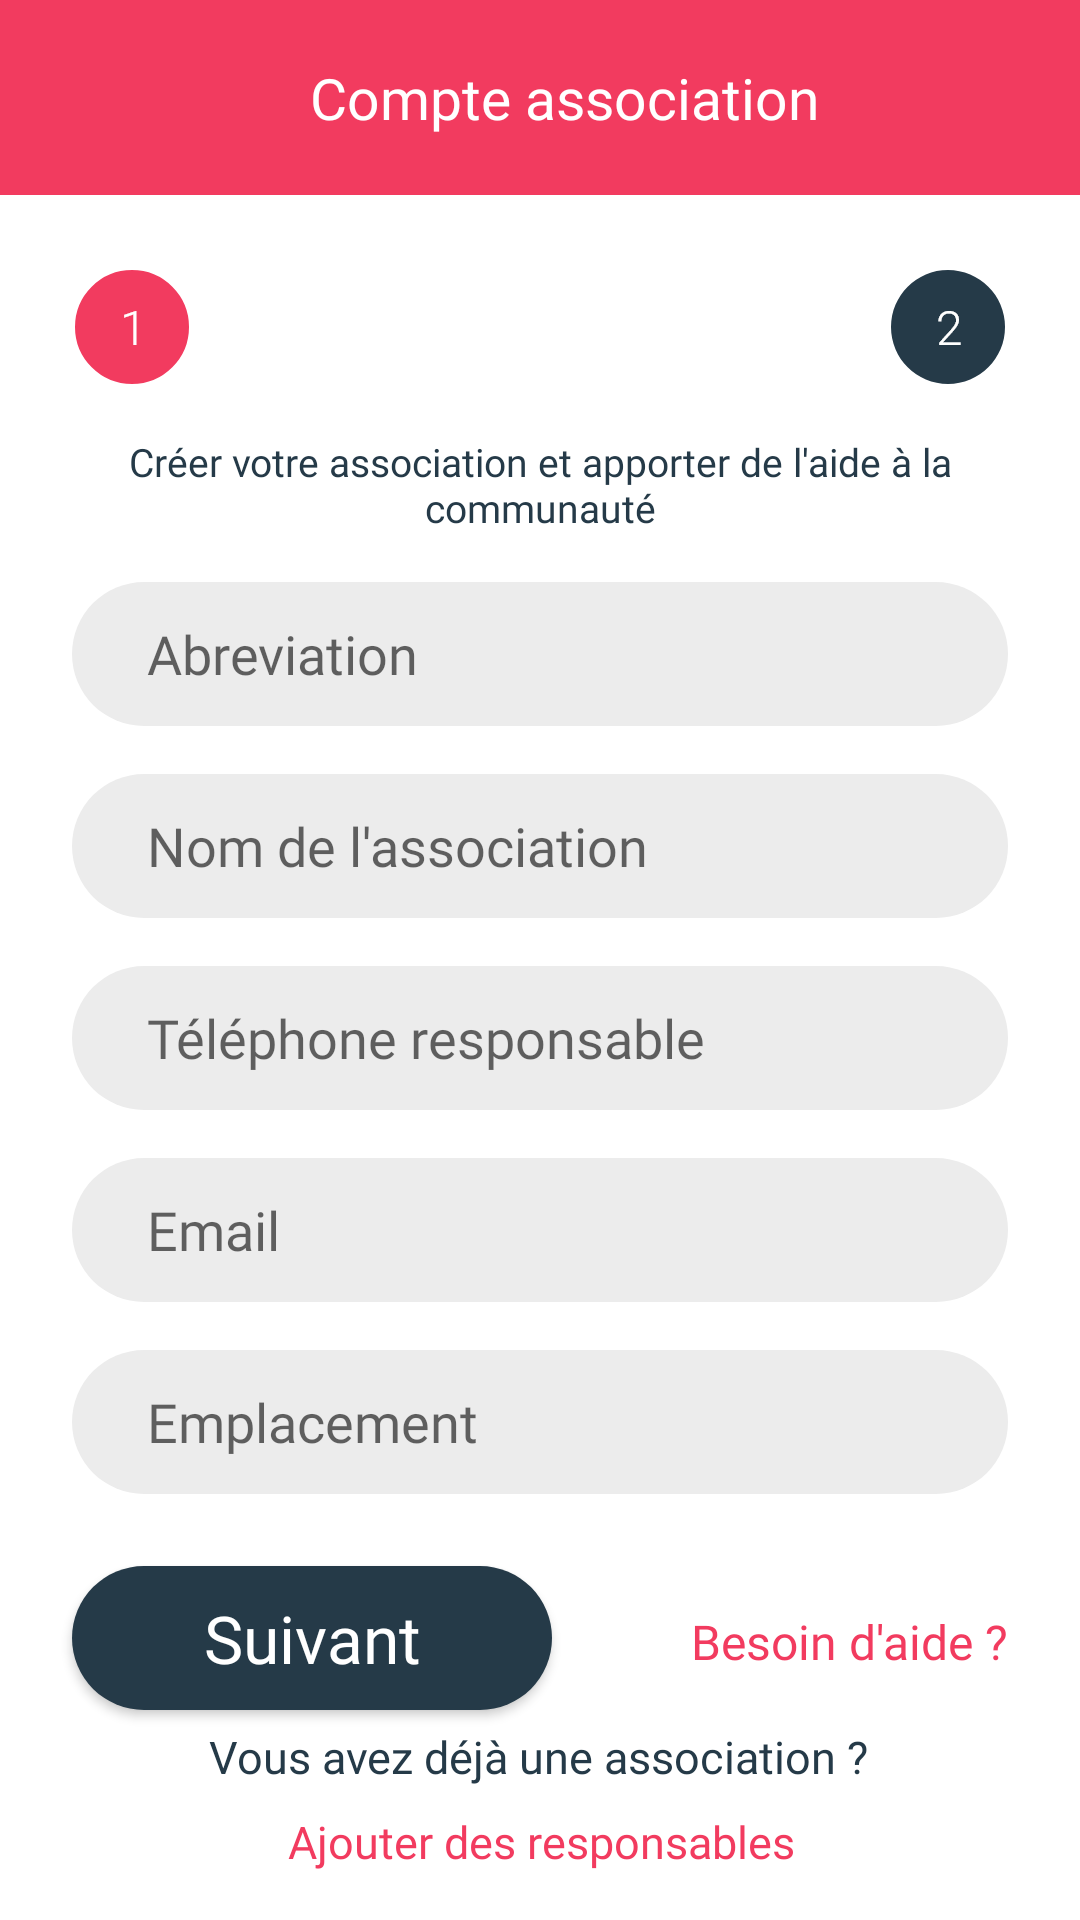

Point at icon controls on the screen. Image size 1080×1920, points as (x,y).
etapedeuxblack: (948,327)
etapepink: (132,327)
